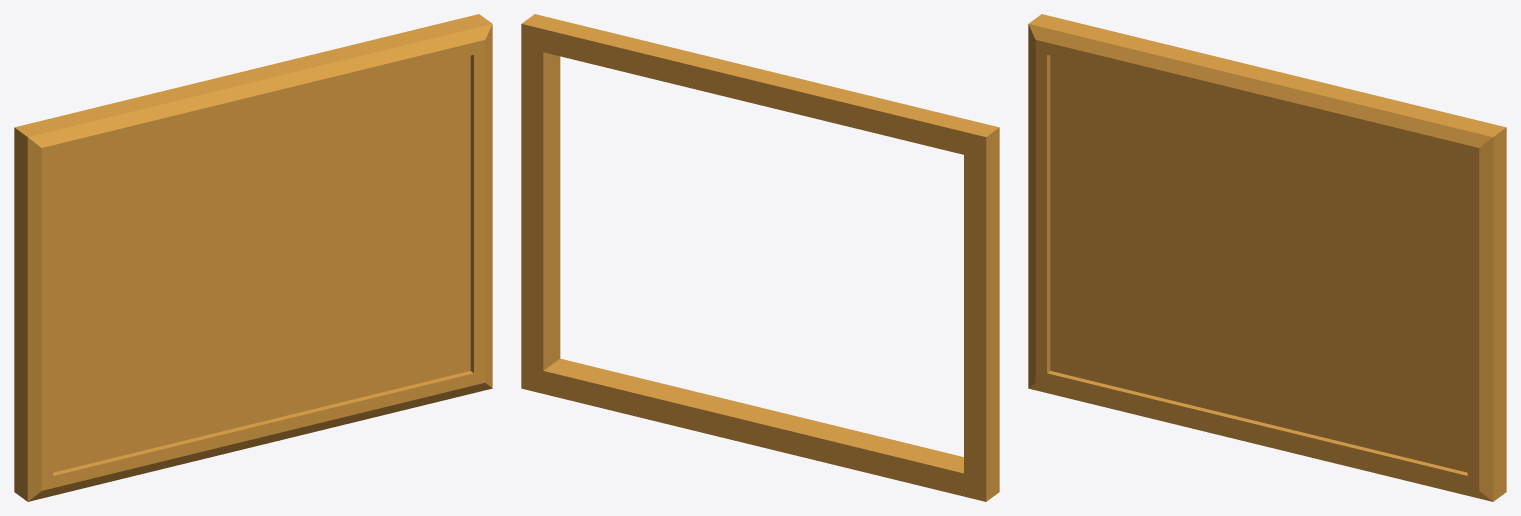
Rendered from scifi-scifi-window-big.glb.
3 views of the same model, side by side, from view 1: azimuth 30°, elevation 25°; view 2: azimuth 150°, elevation 25°; view 3: azimuth 330°, elevation 25° (orthographic).
Parts seen in each view (by area): view 1: scifi-window-big; view 2: scifi-window-big; view 3: scifi-window-big.
Part boxes in pixels (box(x1,y1,x2,y2)): scifi-window-big: box(14, 14, 492, 501); scifi-window-big: box(521, 14, 999, 501); scifi-window-big: box(1028, 14, 1506, 501).
Size of the model in its own units: 4 by 3 by 0.25.
